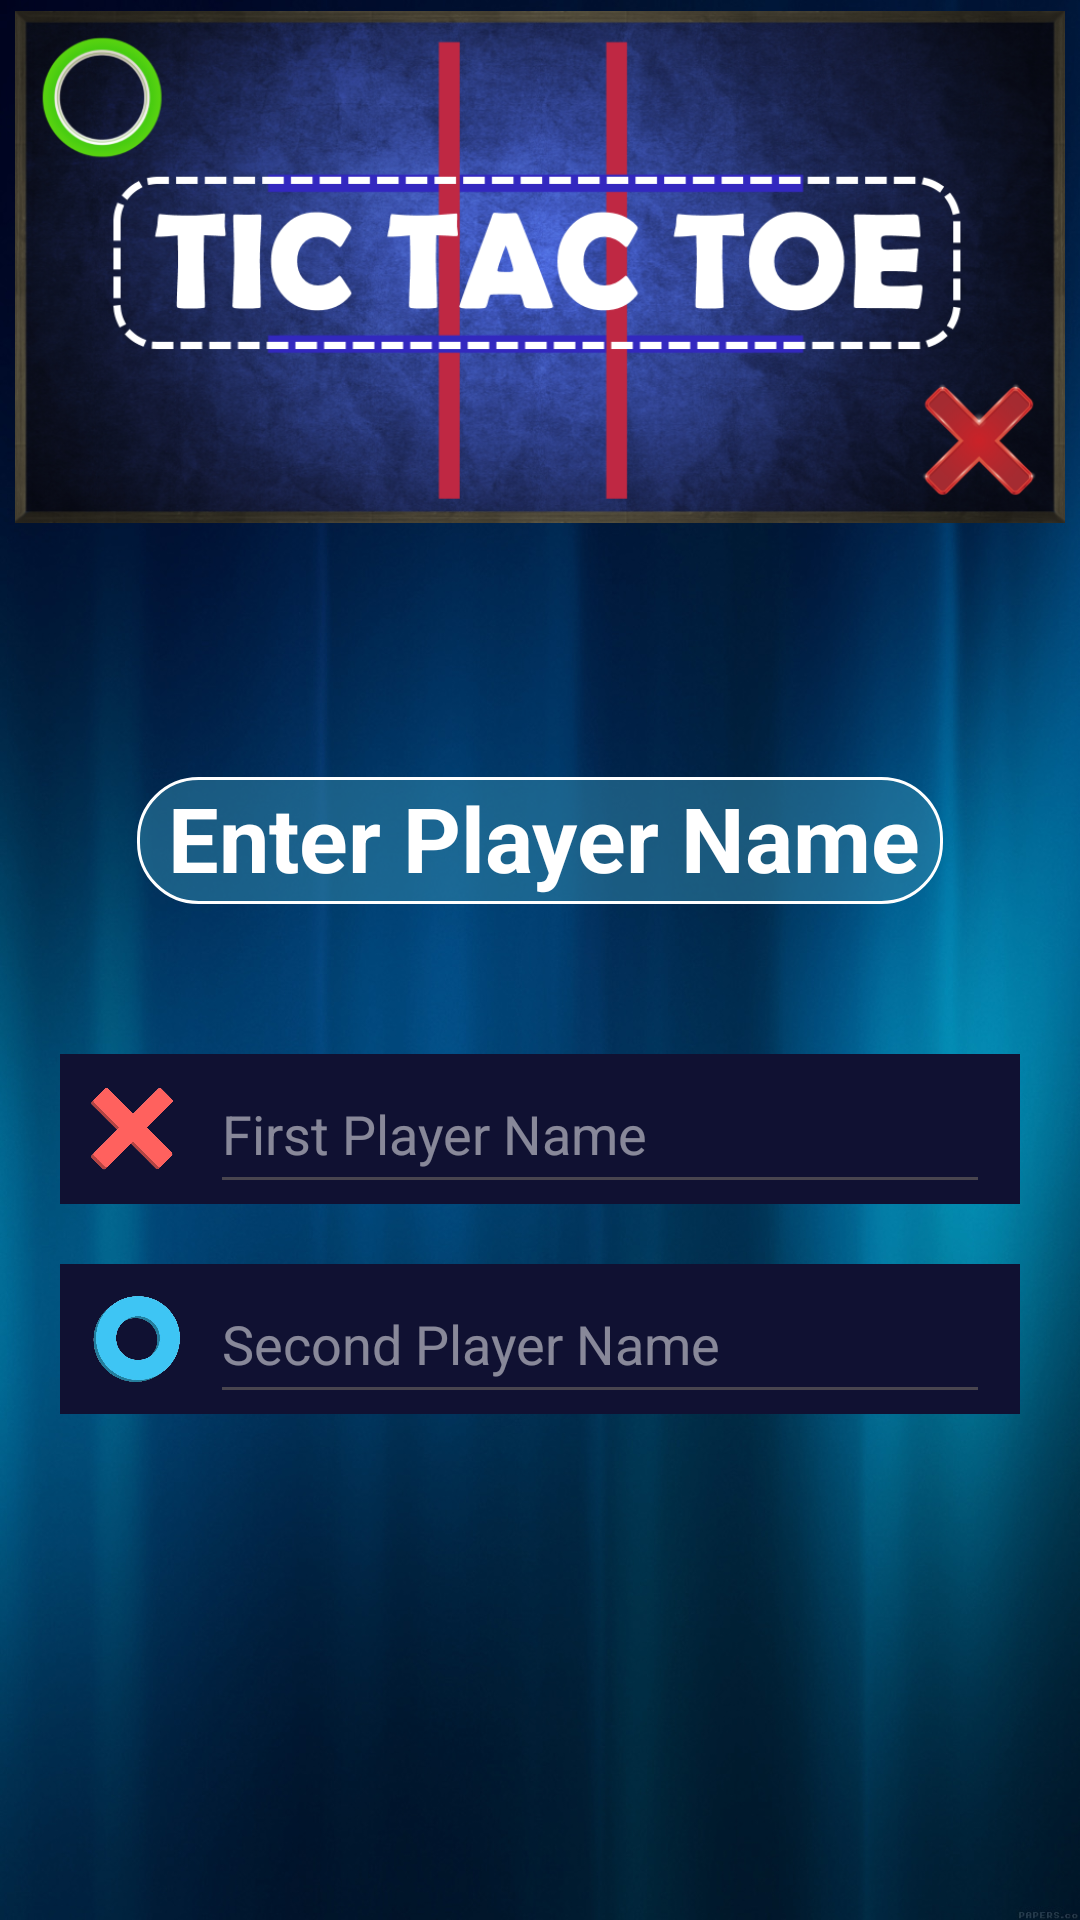

Locate icon controls on the screen. Image size 1080w x 1920h, boxes as (x1=x1, y1=y1, x2=x2, y2=y2).
circle tictok: (x1=93, y1=1296, x2=180, y2=1382)
first tictok: (x1=91, y1=1088, x2=173, y2=1170)
